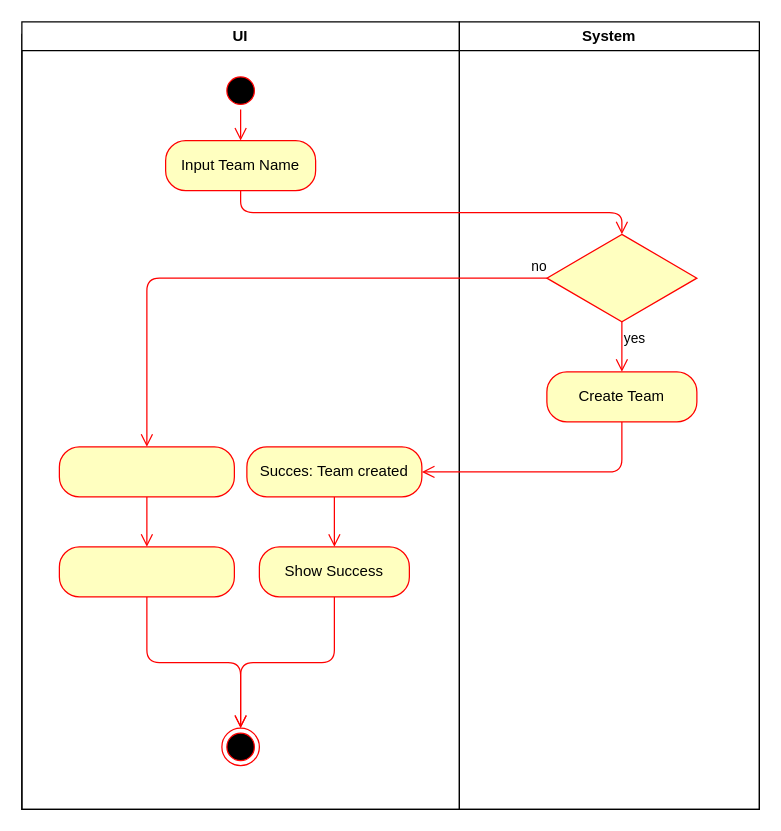
Some shapes in this 781 by 831 pixel diagram are drawn without their labels. Each missing label, with the centre of its shape:
Error: (x=146, y=471)
Show Feedback: (x=146, y=571)
Success?: (x=621, y=277)
